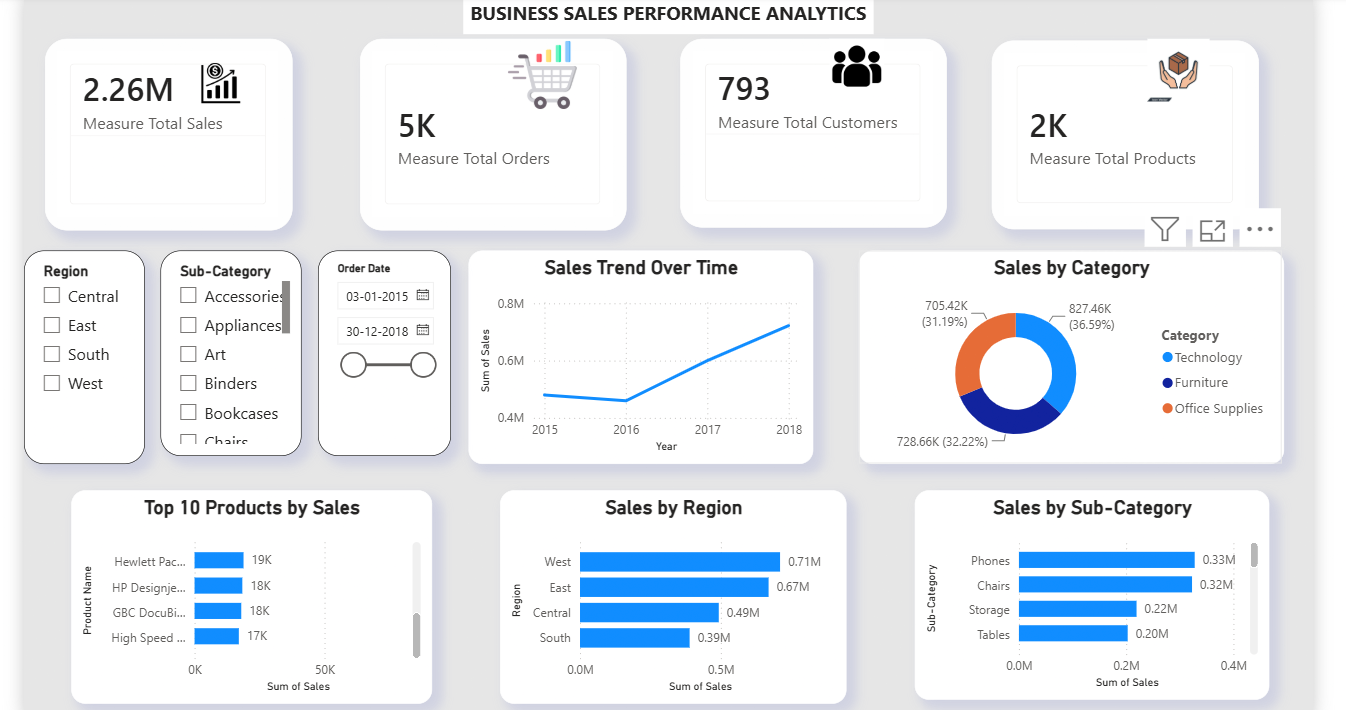

The page's visual inventory and layout, read from the dashboard file:
{"tool":"powerbi","page":{"name":"Page 1","canvas":[1280,720],"ordinal":0},"visuals":[{"type":"cardVisual","fields":{"Data":["train.Measure  Total Sales"]},"box":[20,44.3,245.7,190],"z":0,"group":"g1"},{"type":"cardVisual","fields":{"Data":["train.Measure  Total Orders"]},"box":[334.3,44.3,264.3,190],"z":0},{"type":"cardVisual","fields":{"Data":["train.Measure Total Customers"]},"box":[651.4,44.3,264.3,187.1],"z":1000},{"type":"cardVisual","fields":{"Data":["train.Measure Total Products"]},"box":[960,45,265,187.5],"z":2000},{"type":"lineChart","title":"Sales Trend Over Time","fields":{"Category":["train.Order Date.Variation.Date Hierarchy.Year","train.Order Date.Variation.Date Hierarchy.Quarter","train.Order Date.Variation.Date Hierarchy.Month","train.Order Date.Variation.Date Hierarchy.Day"],"Y":["Sum(train.Sales)"]},"box":[442,254,342,212],"z":3000},{"type":"barChart","title":"Top 10 Products by Sales","fields":{"Category":["train.Product Name"],"Y":["Sum(train.Sales)"]},"box":[47.1,492,358,212],"z":4000},{"type":"donutChart","title":"     Sales by Category","fields":{"Category":["train.Category"],"Y":["Sum(train.Sales)"]},"box":[828,254,422,212],"z":5000},{"type":"barChart","title":"Sales by Region","fields":{"Category":["train.Region"],"Y":["Sum(train.Sales)"]},"box":[472.6,492,344,212],"z":6000},{"type":"barChart","title":"Sales by Sub-Category","fields":{"Category":["train.Sub-Category"],"Y":["Sum(train.Sales)"]},"box":[884,492,352,208],"z":7000},{"type":"slicer","fields":{"Values":["train.Region"]},"box":[0,254,120,212],"z":8000},{"type":"slicer","fields":{"Values":["train.Sub-Category"]},"box":[136,254,140,204],"z":9000},{"type":"slicer","fields":{"Values":["train.Order Date"]},"box":[292,254,132,204],"z":10000},{"type":"image","box":[796,44,62,54],"z":11000},{"type":"image","box":[161.8,67.6,63.9,43],"z":11003,"group":"g1"},{"type":"image","box":[480,44,70,72],"z":12000},{"type":"image","box":[1110,44,72,62],"z":13000},{"type":"group","id":"g1","title":"Group 1","box":[20,44.3,245.7,190],"z":14000},{"type":"textbox","box":[436.4,0,407.1,38.6],"z":15000}]}

Visuals, with their boxes on the page's 1280x720 design canvas (x1, y1, x2, y2). These are canvas units, not pixel positions in the 1346x710 screenshot, which may show the page scaled, cropped or inside an application window:
cardVisual - train.Measure  Total Sales: bbox(20, 44, 266, 234)
cardVisual - train.Measure  Total Orders: bbox(334, 44, 599, 234)
cardVisual - train.Measure Total Customers: bbox(651, 44, 916, 231)
cardVisual - train.Measure Total Products: bbox(960, 45, 1225, 232)
"Sales Trend Over Time" lineChart: bbox(442, 254, 784, 466)
"Top 10 Products by Sales" barChart: bbox(47, 492, 405, 704)
"     Sales by Category" donutChart: bbox(828, 254, 1250, 466)
"Sales by Region" barChart: bbox(473, 492, 817, 704)
"Sales by Sub-Category" barChart: bbox(884, 492, 1236, 700)
slicer - train.Region: bbox(0, 254, 120, 466)
slicer - train.Sub-Category: bbox(136, 254, 276, 458)
slicer - train.Order Date: bbox(292, 254, 424, 458)
image: bbox(796, 44, 858, 98)
image: bbox(162, 68, 226, 111)
image: bbox(480, 44, 550, 116)
image: bbox(1110, 44, 1182, 106)
"Group 1" group: bbox(20, 44, 266, 234)
textbox: bbox(436, 0, 844, 39)
